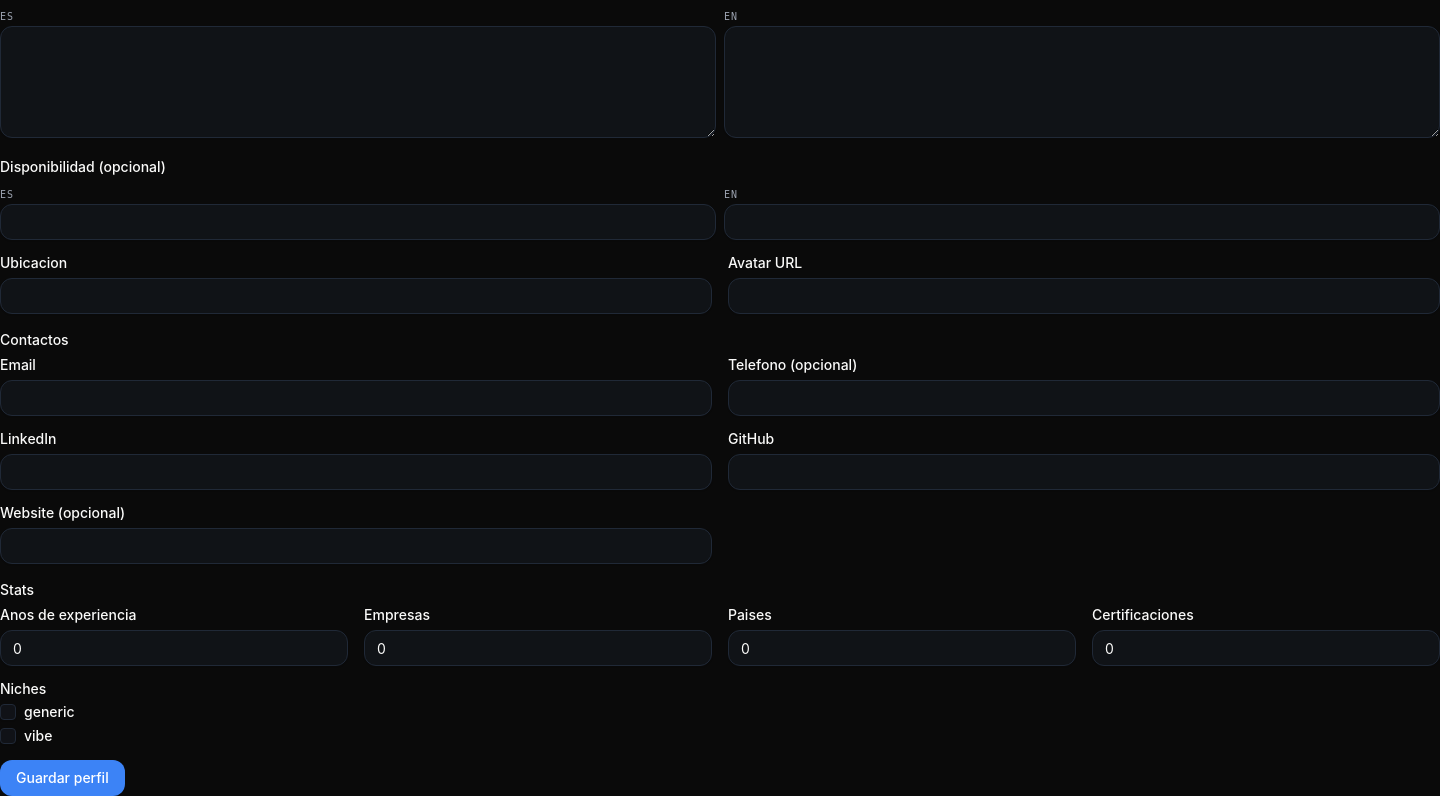
Test: ProfileForm › Given el alta sin datos When se guarda Then señala los locales faltantes del headline
(page scrolled)
Click the button with test id "cv-form-submit" at (62, 778), box [0,760,125,795]
(page scrolled)
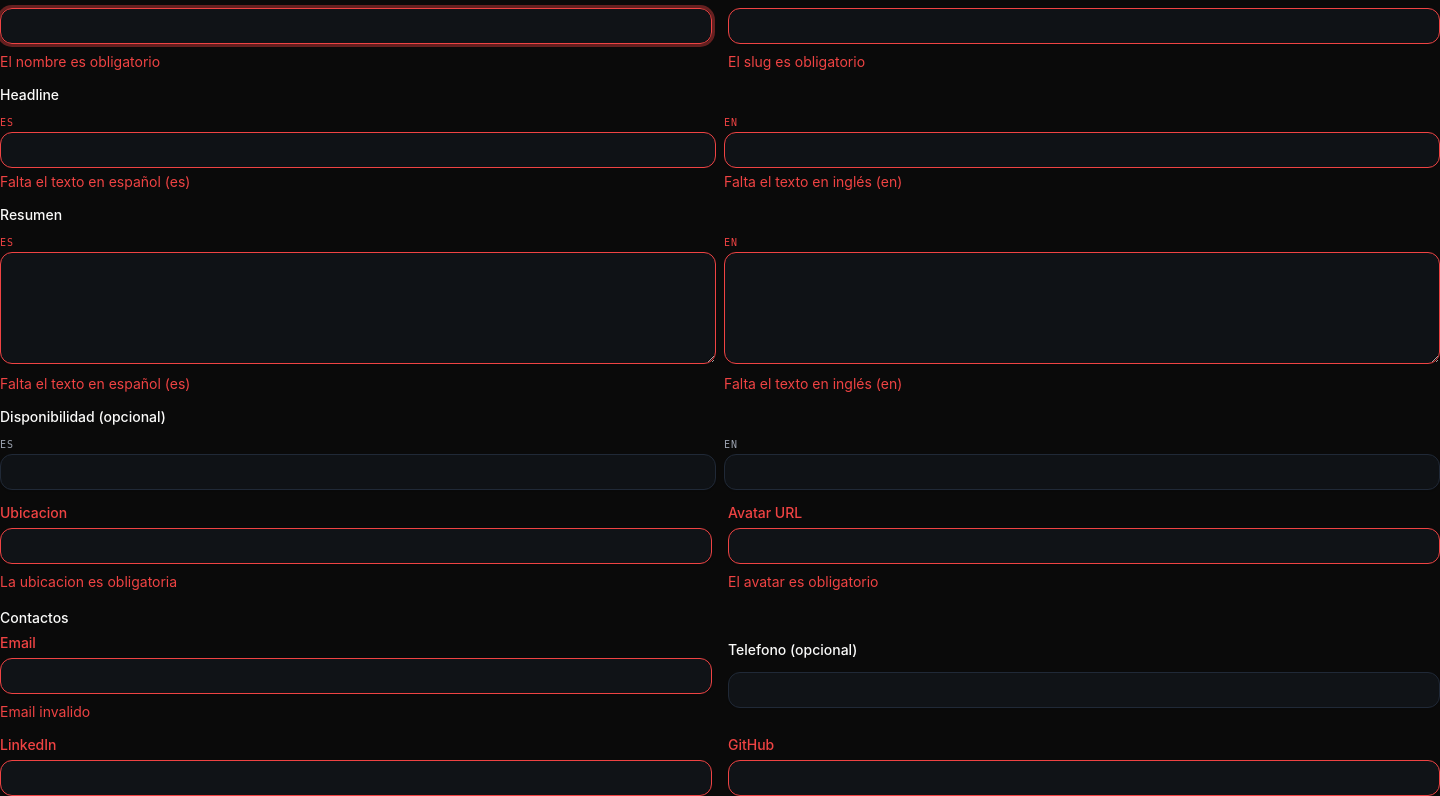
Expected: the text "Falta el texto en español (es)" is shown 2 times, [0,173,190,190]; [0,375,190,392]
